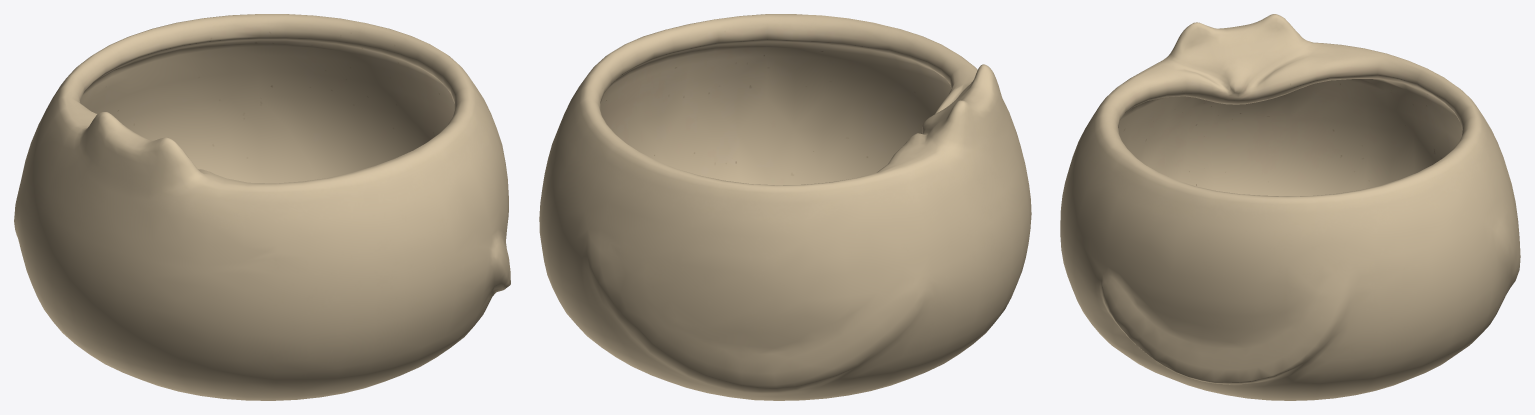
The model's file is fat-guardian-bowl.glb.
3 renders of one model, left to right at view 1: azimuth 30°, elevation 25°; view 2: azimuth 150°, elevation 25°; view 3: azimuth 270°, elevation 25°, orthographic. The views are drawn at different scales.
Visible parts, largest first — view 1: tripo_node_9756dbab-72fa-4a07-b83b-2503cbd73dbb; view 2: tripo_node_9756dbab-72fa-4a07-b83b-2503cbd73dbb; view 3: tripo_node_9756dbab-72fa-4a07-b83b-2503cbd73dbb.
Boxes of the visible parts, <box> form: tripo_node_9756dbab-72fa-4a07-b83b-2503cbd73dbb: <box>14,14,510,400</box>; tripo_node_9756dbab-72fa-4a07-b83b-2503cbd73dbb: <box>539,14,1031,400</box>; tripo_node_9756dbab-72fa-4a07-b83b-2503cbd73dbb: <box>1060,14,1520,400</box>.
Bounding box in the file's own units: 0.9995 × 0.6108 × 0.9995.
1 material, 1 textured.
